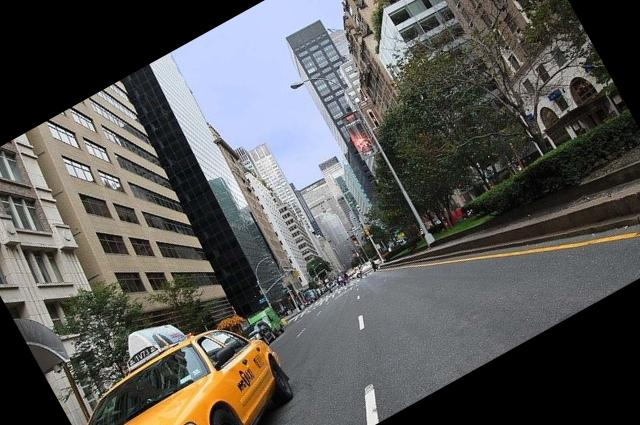taxi: (78, 334, 294, 425)
